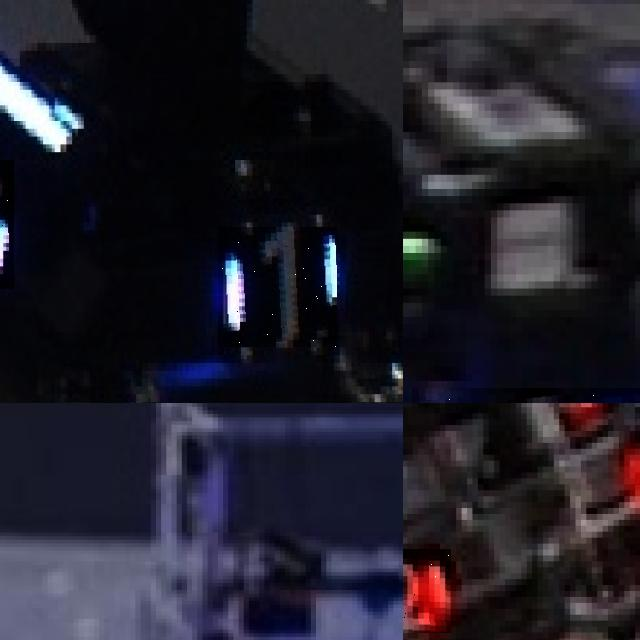B1: (218, 227, 337, 347)
R2: (403, 549, 450, 632)
